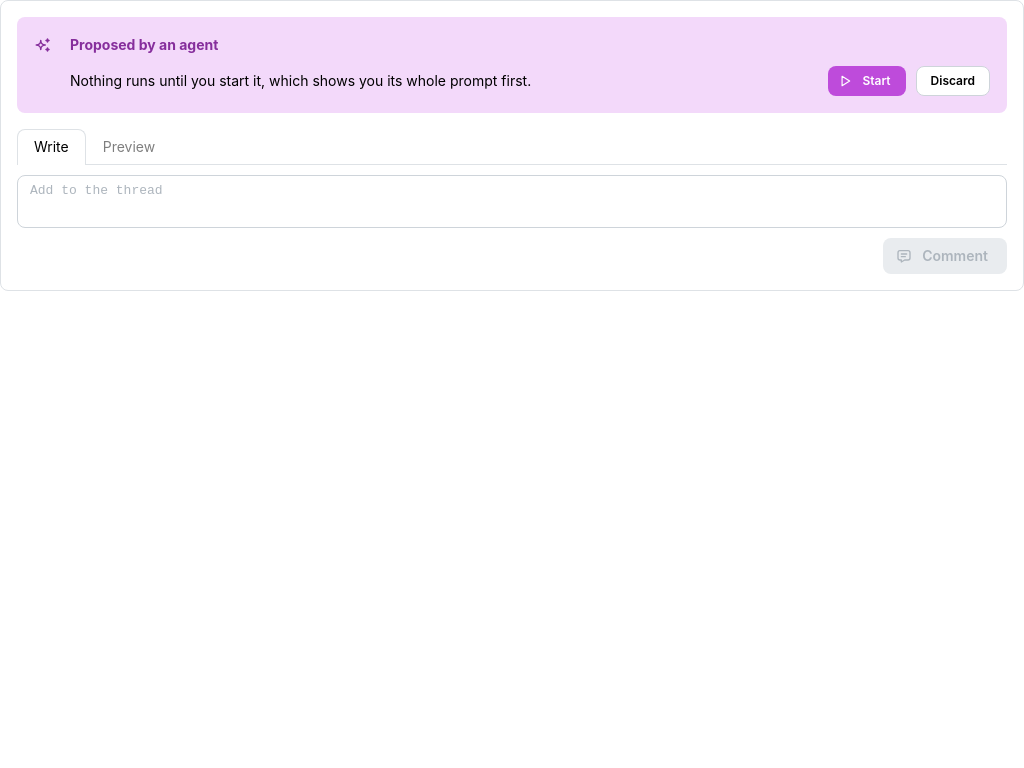
Scenario: ActionPanel of a proposal › starts the prompt as the user edited it in the dialog, and refuses an empty one
Later steps or results of the test are not shown.
Click the button "Start".
click(867, 81)  # box [828,66,906,96]
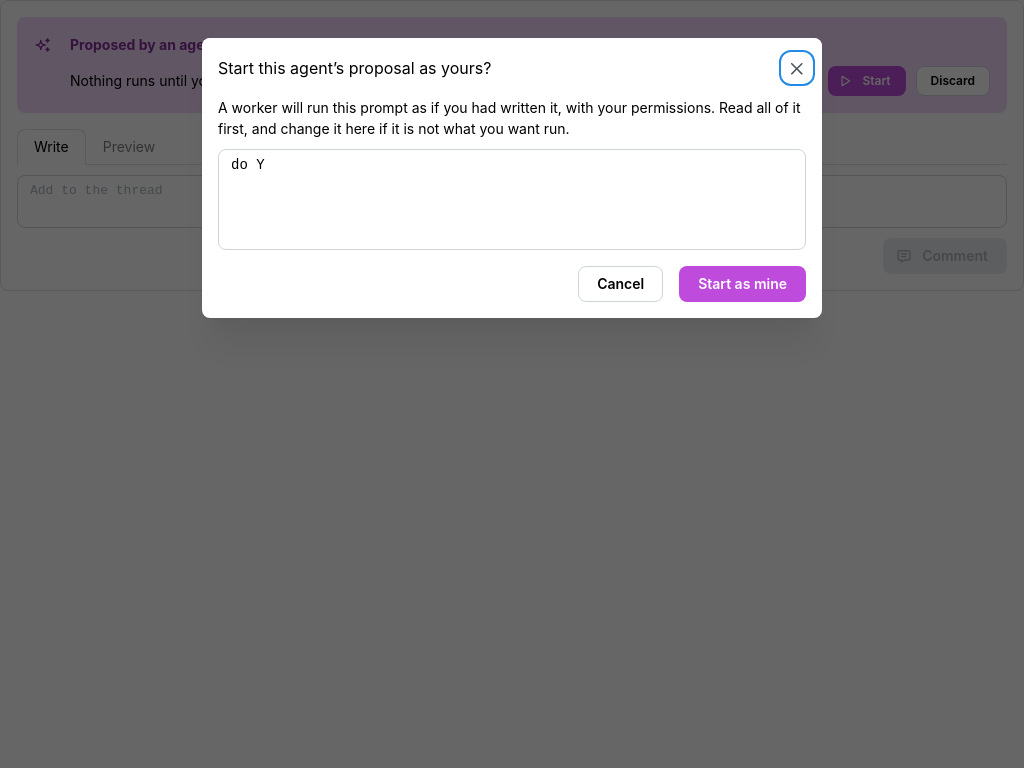
Clear the text box with test id "proposal-prompt" at (512, 200), box [218,149,806,250]
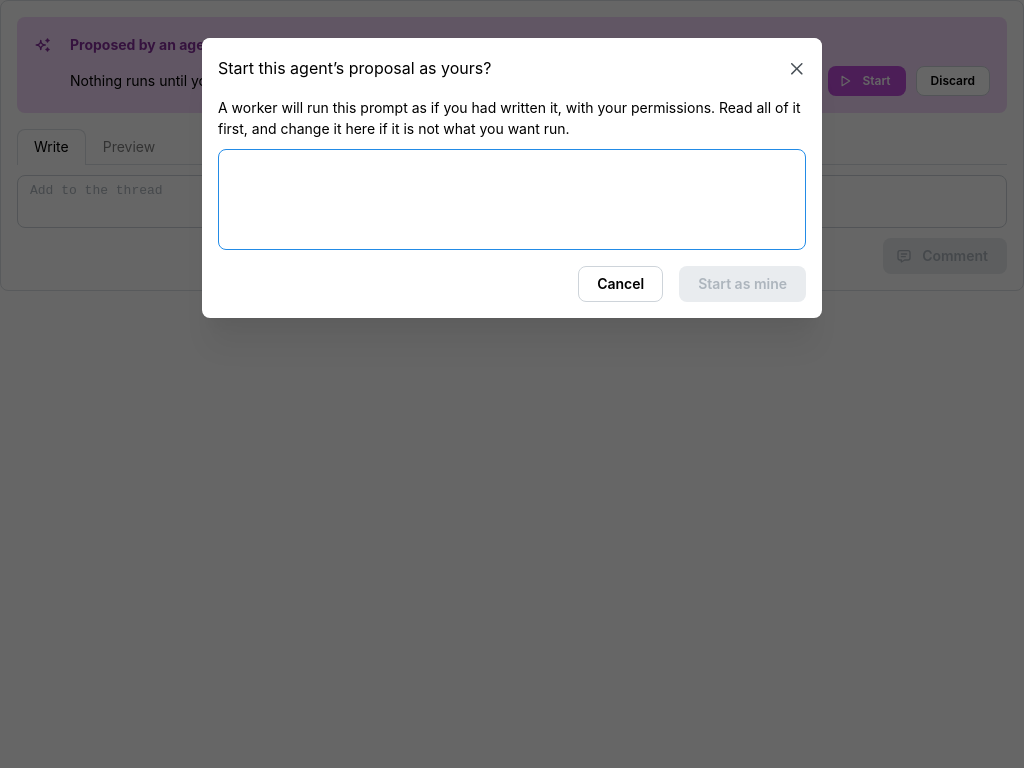
Result: the button "Start as mine" is disabled at [679,266,806,302]
